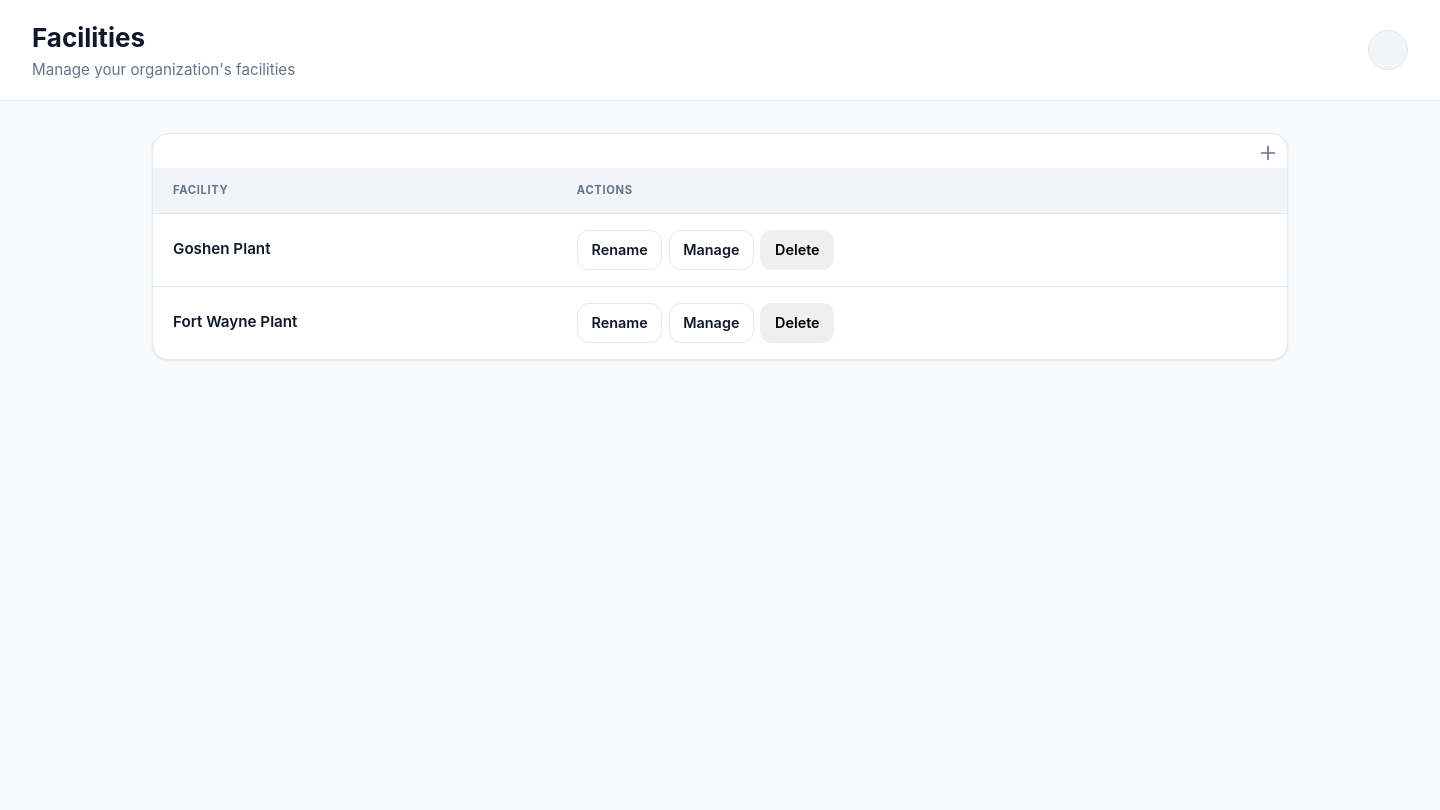
FacilitiesScreen — delete › asks for confirmation naming the facility, without deleting yet
expect the text "Goshen Plant" is shown: met, box [173,239,270,258]
Click the button "Delete" in the row of "Goshen Plant" at (797, 250), box [760,230,834,270]
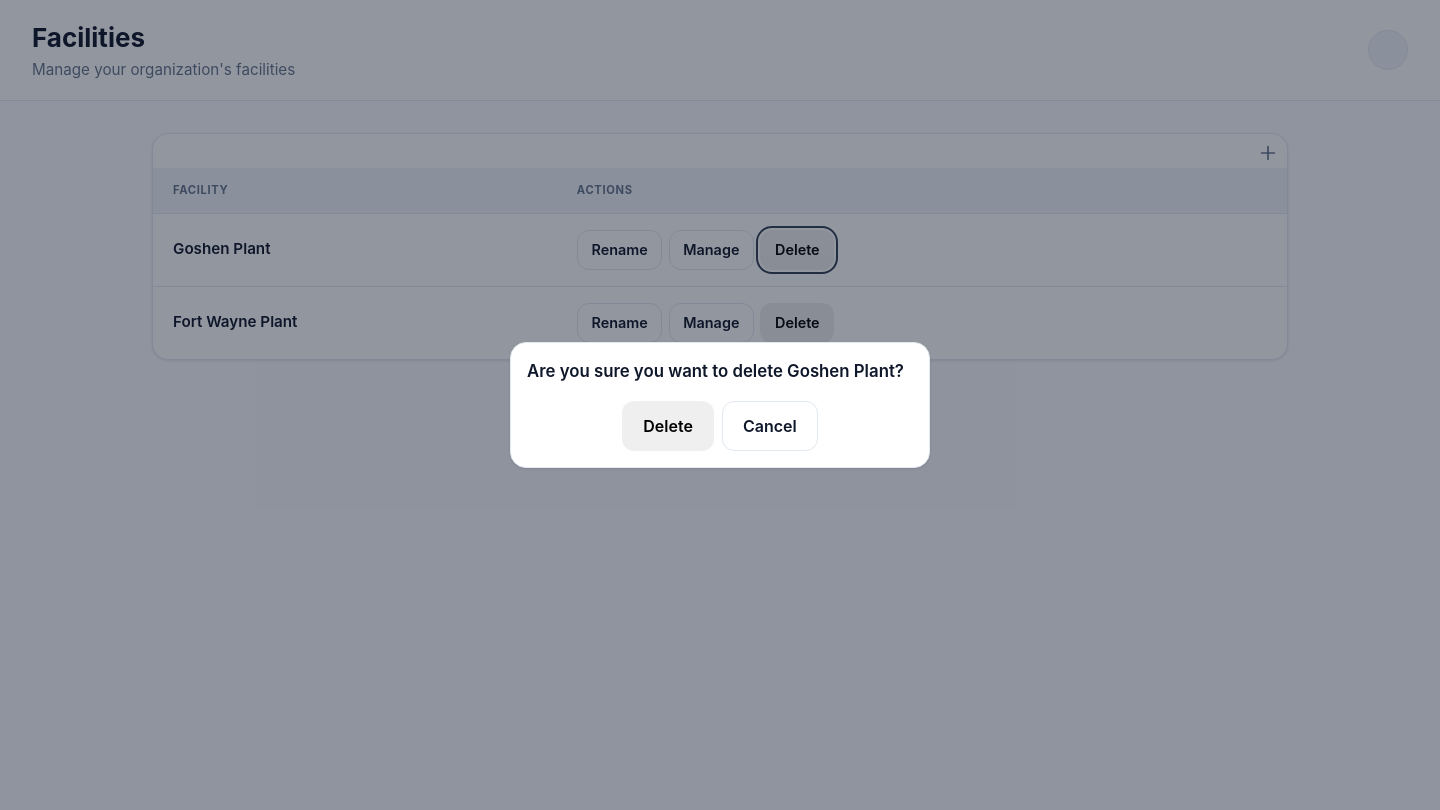
expect the text "Are you sure you want to delete Goshen Plant?" is shown: met, box [527,359,913,385]
